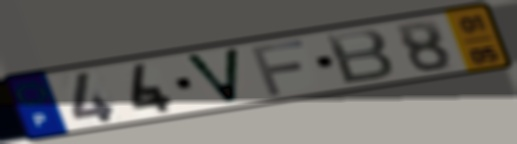4: (68, 69, 120, 126), (129, 61, 176, 115)
8: (395, 19, 454, 74)
B: (321, 27, 398, 86)
F: (247, 37, 309, 98)
V: (180, 45, 244, 106)
